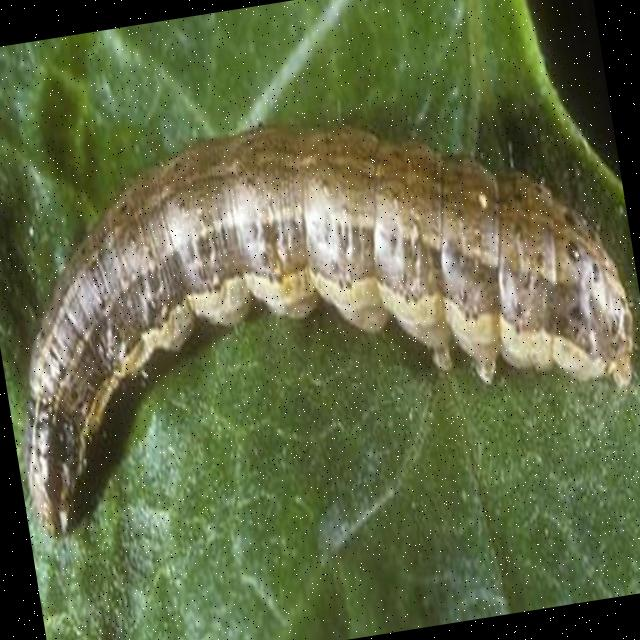worm: (1, 69, 640, 544)
